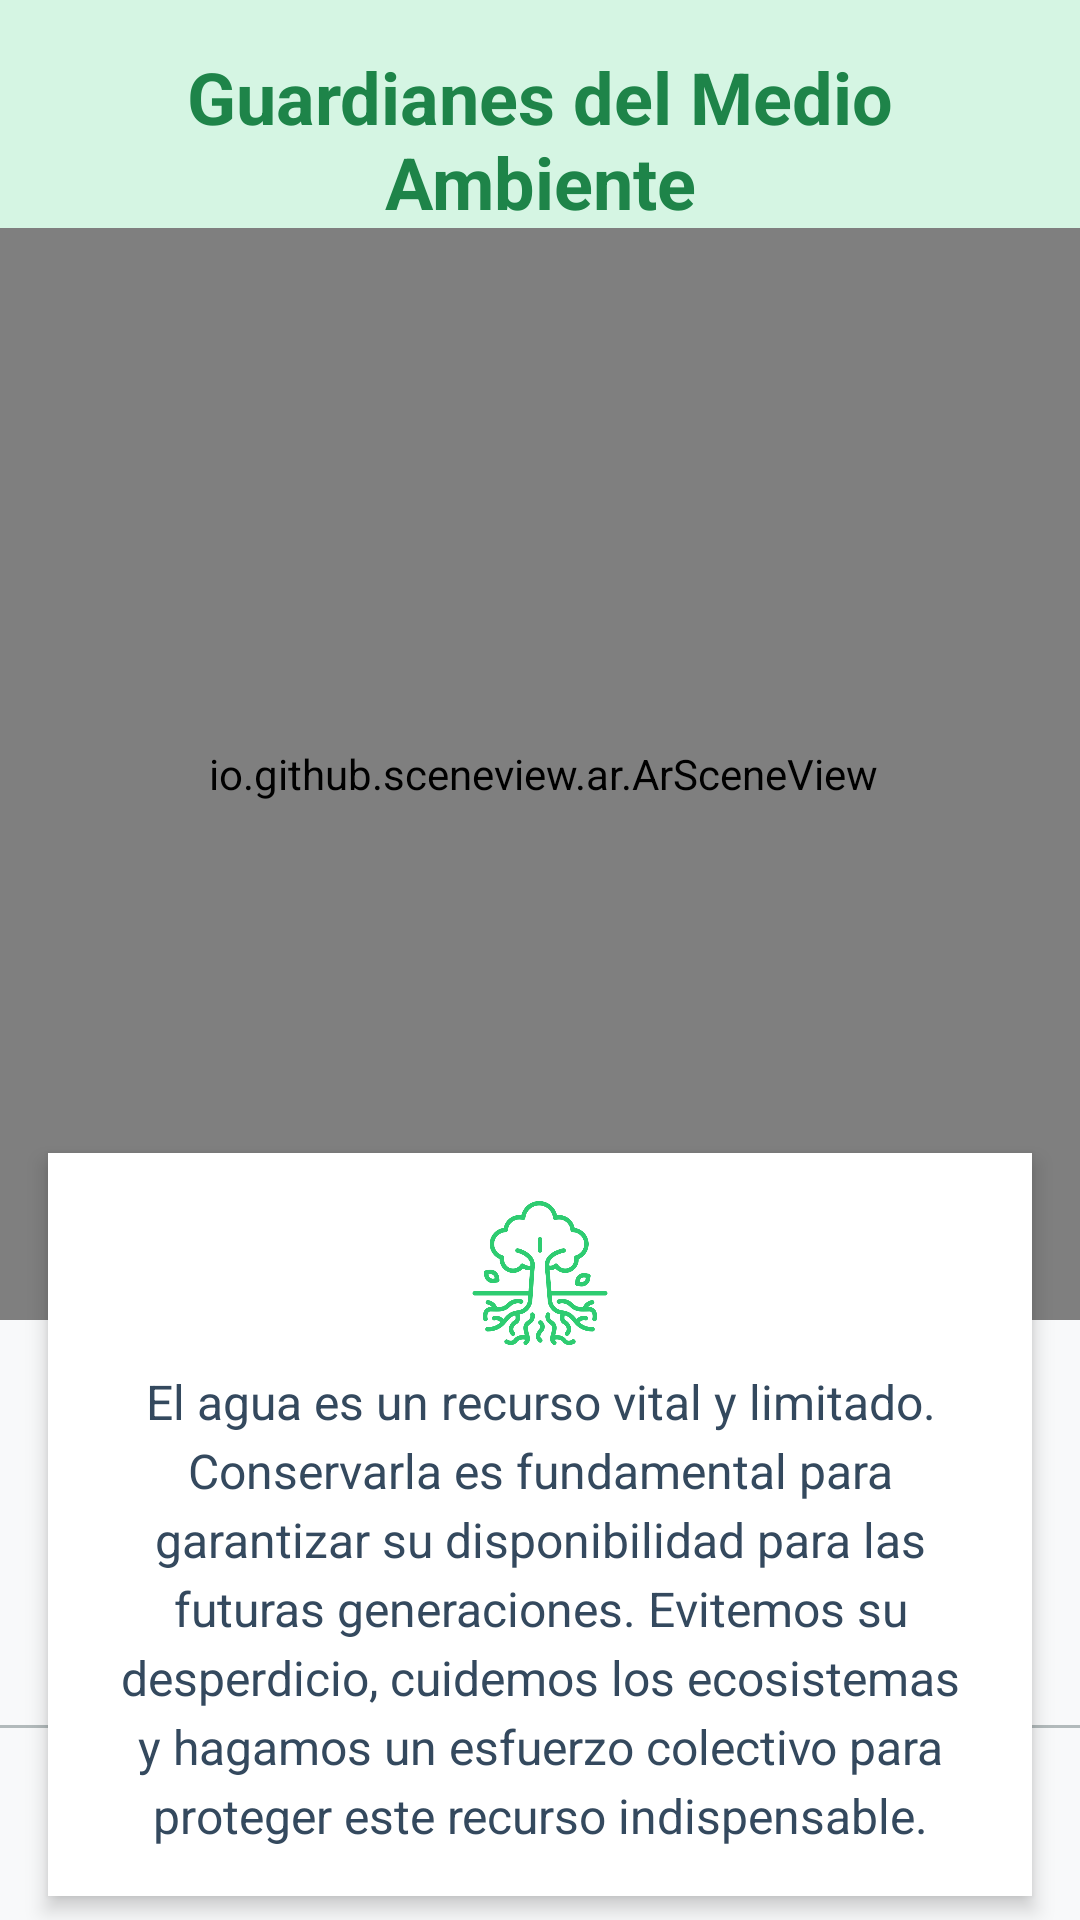

Where to tap for icons on this 1080px×1920px app screen, as (x,y):
Icono de árbol: (540,1273)
